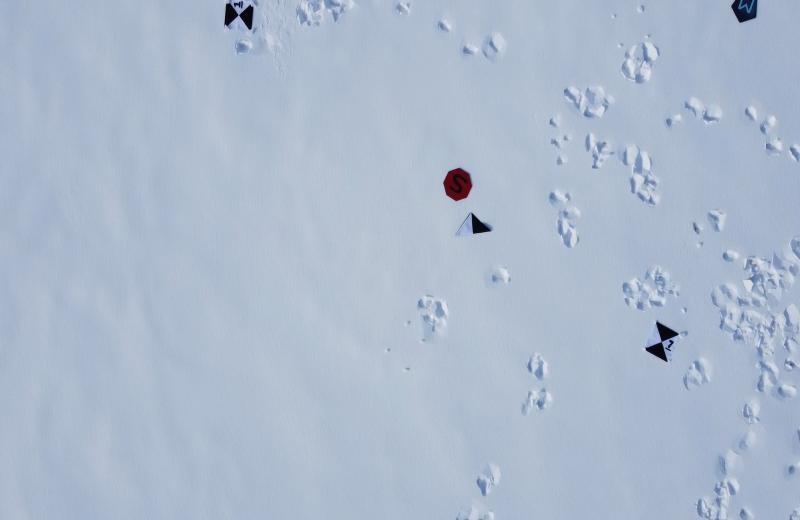Octagon: (444, 168, 473, 203)
Pentagon: (730, 0, 761, 25)
